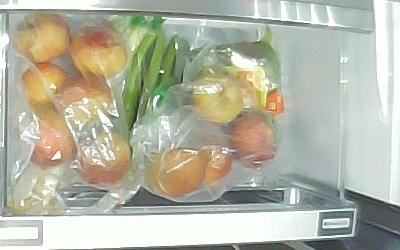prune_vinyl: (15, 109, 78, 169), (74, 129, 135, 188), (56, 74, 113, 131), (69, 24, 127, 80), (145, 146, 206, 199), (227, 110, 278, 170), (13, 12, 71, 64), (190, 71, 242, 123), (17, 62, 68, 108), (200, 140, 232, 185)
